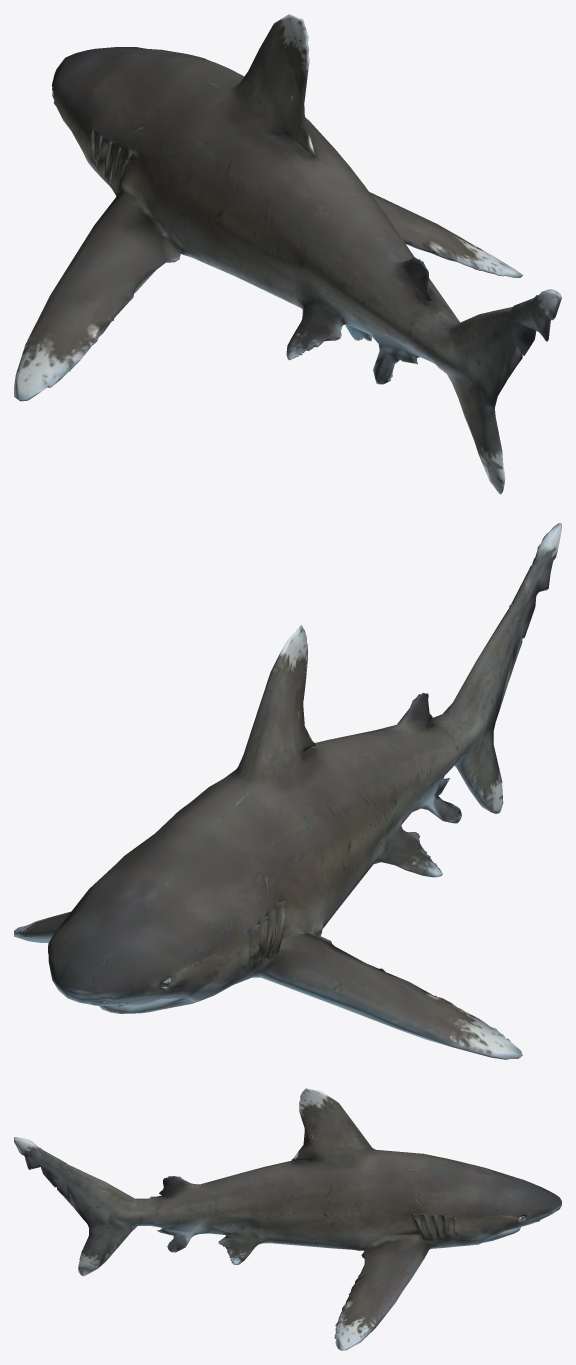
File: longimanus.glb
3 views of the same model, one above another, from view 1: azimuth 30°, elevation 25°; view 2: azimuth 150°, elevation 25°; view 3: azimuth 270°, elevation 25° (orthographic). The views are drawn at different scales.
Parts seen in each view (by area): view 1: tripo_node_f2b5e532-2abd-4b52-abe7-c1aafd3022ab; view 2: tripo_node_f2b5e532-2abd-4b52-abe7-c1aafd3022ab; view 3: tripo_node_f2b5e532-2abd-4b52-abe7-c1aafd3022ab.
Part boxes in pixels (box(x1,y1,x2,y2)): tripo_node_f2b5e532-2abd-4b52-abe7-c1aafd3022ab: box(14, 14, 561, 494); tripo_node_f2b5e532-2abd-4b52-abe7-c1aafd3022ab: box(14, 523, 561, 1059); tripo_node_f2b5e532-2abd-4b52-abe7-c1aafd3022ab: box(14, 1088, 561, 1350).
Bounding box in the file's own units: 2.75 × 1.8 × 4.58.
1 material, 1 textured.
